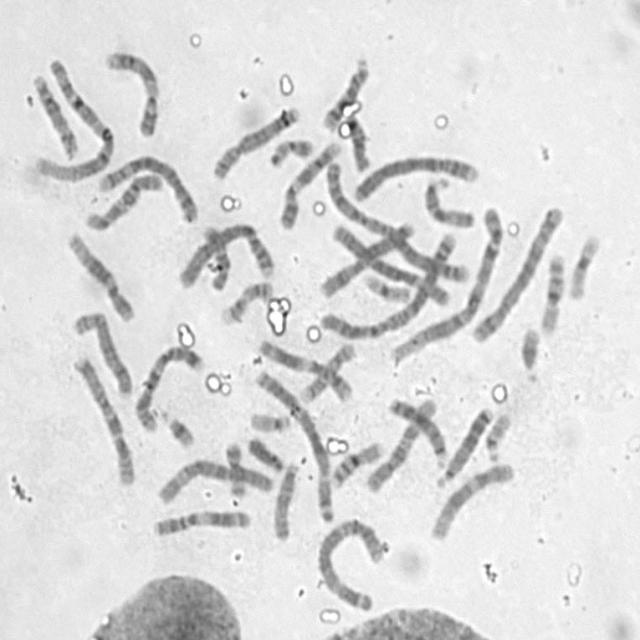A1: (386, 202, 504, 365), (32, 54, 118, 182)
A2: (319, 155, 471, 288), (315, 228, 459, 344)
A3: (250, 364, 336, 526), (313, 512, 386, 612)
B4: (172, 217, 277, 291), (348, 149, 482, 204)
B5: (468, 201, 566, 345), (91, 148, 200, 226)
C10: (362, 393, 438, 495), (80, 167, 165, 233)
C11: (255, 334, 356, 404), (148, 504, 254, 539)
C12: (426, 457, 516, 543), (64, 227, 137, 324)
C6: (329, 220, 454, 309), (153, 452, 279, 507)
C7: (69, 352, 138, 488), (130, 340, 206, 434)
C8: (209, 101, 303, 182), (70, 306, 136, 399)
C9: (275, 136, 344, 232), (99, 46, 160, 139)
D13: (431, 400, 495, 489), (385, 392, 451, 468)
D14: (29, 70, 81, 160), (319, 52, 373, 133)
D15: (421, 172, 478, 230), (269, 456, 302, 543)
E16: (327, 436, 386, 489), (536, 247, 568, 335)
E17: (298, 339, 359, 405), (217, 276, 276, 327)
E18: (200, 221, 232, 292), (343, 110, 373, 174)
F19: (565, 228, 603, 300), (360, 268, 412, 305)
F20: (266, 133, 316, 169), (221, 436, 247, 499)
G21: (158, 406, 197, 449), (516, 322, 542, 376)
G22: (481, 408, 513, 463), (246, 406, 294, 434)
X: (329, 220, 453, 309), (317, 218, 417, 301)
Y: (244, 431, 286, 474)
